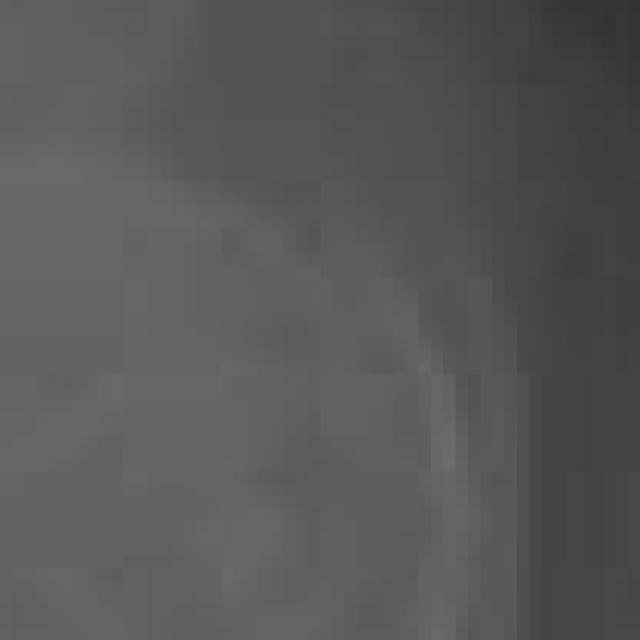fracture: (0, 14, 637, 640)
